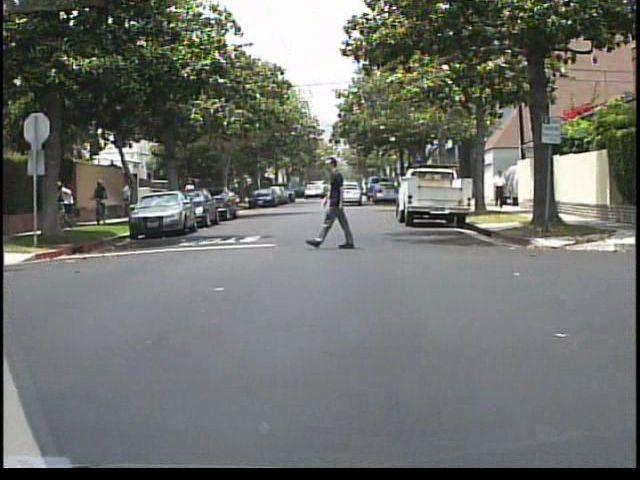person: (308, 152, 363, 254), (54, 177, 80, 226), (490, 168, 510, 212), (181, 176, 198, 211), (90, 176, 112, 202)
